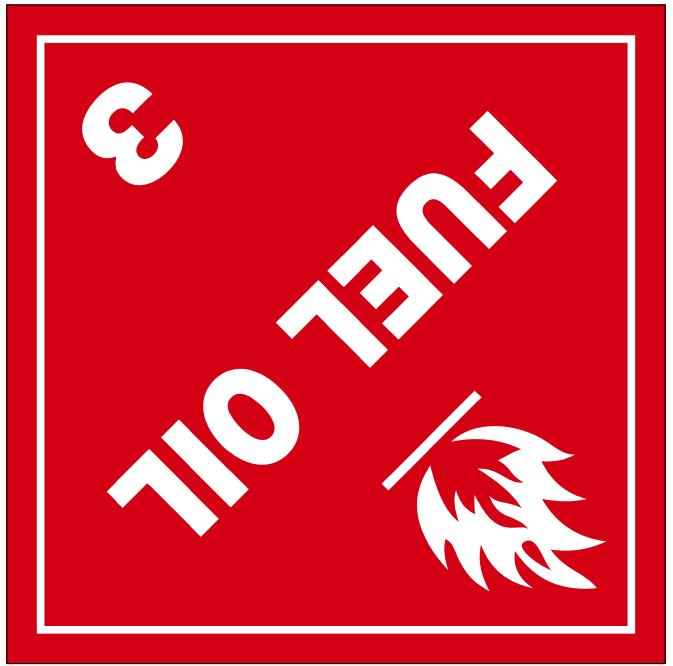flammable: (1, 1, 673, 666)
